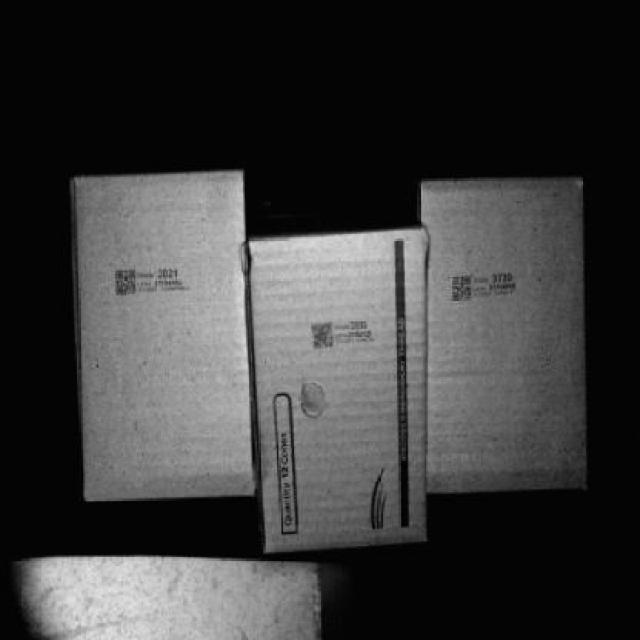cardboxes: (73, 174, 258, 498), (424, 177, 590, 494), (254, 245, 428, 546)
